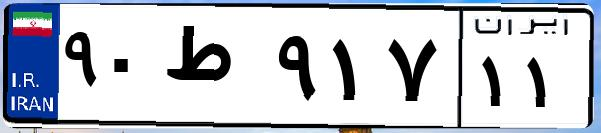0: (110, 28, 158, 98)
1: (330, 28, 385, 110), (475, 38, 525, 113), (525, 38, 570, 115)
7: (385, 28, 445, 110)
9: (270, 28, 330, 110), (57, 26, 110, 100)
ط: (158, 20, 270, 120)
